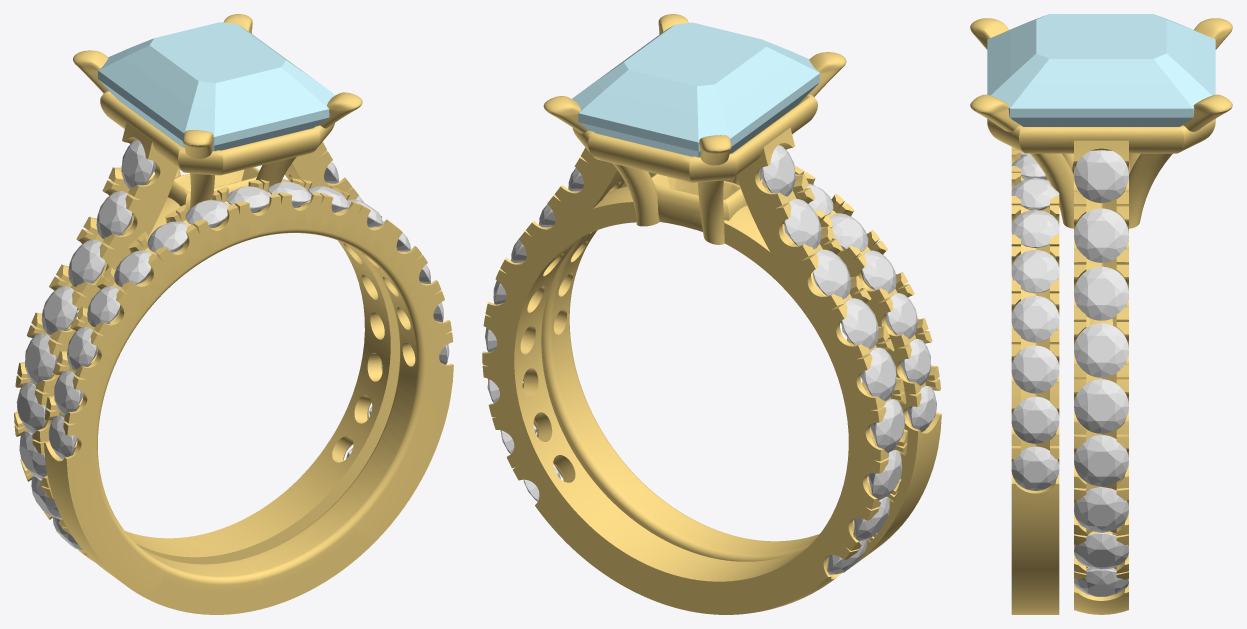
The model's file is StephanieBOTHyg.glb.
3 renders of one model, left to right at view 1: azimuth 30°, elevation 25°; view 2: azimuth 150°, elevation 25°; view 3: azimuth 270°, elevation 25°, orthographic. The views are drawn at different scales.
Visible parts, largest first — view 1: Stephanie YG wb for 3d model, Stephanie YG eng for 3d model, Stephanie aquamarine eng for 3d model, Stephanie dia eng for 3d model.012, Stephanie dia eng for 3d model.011, Stephanie dia eng for 3d model.010, Stephanie dia eng for 3d model.013, Stephanie dia eng for 3d model.009, Stephanie dia eng for 3d model.014, Stephanie dia wb for 3d model.011, Stephanie dia wb for 3d model.010, Stephanie dia wb for 3d model.012 (+7 smaller); view 2: Stephanie YG eng for 3d model, Stephanie YG wb for 3d model, Stephanie aquamarine eng for 3d model, Stephanie dia eng for 3d model.012, Stephanie dia eng for 3d model.011, Stephanie dia eng for 3d model.010, Stephanie dia eng for 3d model.013, Stephanie dia eng for 3d model.009, Stephanie dia eng for 3d model.014, Stephanie dia wb for 3d model.011, Stephanie dia wb for 3d model.012, Stephanie dia wb for 3d model.010 (+4 smaller); view 3: Stephanie aquamarine eng for 3d model, Stephanie YG eng for 3d model, Stephanie YG wb for 3d model, Stephanie dia eng for 3d model.003, Stephanie dia eng for 3d model.004, Stephanie dia eng for 3d model.001, Stephanie dia eng for 3d model, Stephanie dia eng for 3d model.002, Stephanie dia eng for 3d model.005, Stephanie dia eng for 3d model.006, Stephanie dia wb for 3d model.002, Stephanie dia wb for 3d model.001 (+8 smaller).
Boxes of the visible parts, bbox=[...] form: Stephanie YG wb for 3d model: bbox=[44, 178, 453, 614]; Stephanie YG eng for 3d model: bbox=[14, 14, 399, 564]; Stephanie aquamarine eng for 3d model: bbox=[98, 22, 335, 151]; Stephanie dia eng for 3d model.012: bbox=[41, 286, 77, 334]; Stephanie dia eng for 3d model.011: bbox=[68, 239, 105, 286]; Stephanie dia eng for 3d model.010: bbox=[96, 191, 132, 238]; Stephanie dia eng for 3d model.013: bbox=[25, 333, 58, 384]; Stephanie dia eng for 3d model.009: bbox=[121, 139, 155, 188]; Stephanie dia eng for 3d model.014: bbox=[16, 382, 47, 433]; Stephanie dia wb for 3d model.011: bbox=[87, 286, 120, 327]; Stephanie dia wb for 3d model.010: bbox=[114, 250, 151, 287]; Stephanie dia wb for 3d model.012: bbox=[67, 326, 97, 370]; Stephanie YG eng for 3d model: bbox=[482, 14, 907, 614]; Stephanie YG wb for 3d model: bbox=[533, 165, 941, 566]; Stephanie aquamarine eng for 3d model: bbox=[572, 22, 819, 157]; Stephanie dia eng for 3d model.012: bbox=[841, 298, 878, 349]; Stephanie dia eng for 3d model.011: bbox=[812, 249, 851, 299]; Stephanie dia eng for 3d model.010: bbox=[784, 199, 821, 249]; Stephanie dia eng for 3d model.013: bbox=[860, 347, 896, 400]; Stephanie dia eng for 3d model.009: bbox=[759, 145, 795, 196]; Stephanie dia eng for 3d model.014: bbox=[870, 399, 904, 452]; Stephanie dia wb for 3d model.011: bbox=[862, 250, 896, 293]; Stephanie dia wb for 3d model.012: bbox=[886, 293, 917, 338]; Stephanie dia wb for 3d model.010: bbox=[830, 213, 868, 251]; Stephanie aquamarine eng for 3d model: bbox=[987, 14, 1215, 126]; Stephanie YG eng for 3d model: bbox=[970, 18, 1232, 614]; Stephanie YG wb for 3d model: bbox=[1011, 147, 1059, 614]; Stephanie dia eng for 3d model.003: bbox=[1074, 323, 1128, 377]; Stephanie dia eng for 3d model.004: bbox=[1074, 379, 1128, 433]; Stephanie dia eng for 3d model.001: bbox=[1074, 208, 1128, 262]; Stephanie dia eng for 3d model: bbox=[1074, 150, 1128, 202]; Stephanie dia eng for 3d model.002: bbox=[1074, 266, 1128, 320]; Stephanie dia eng for 3d model.005: bbox=[1074, 435, 1128, 486]; Stephanie dia eng for 3d model.006: bbox=[1074, 487, 1128, 532]; Stephanie dia wb for 3d model.002: bbox=[1011, 345, 1059, 393]; Stephanie dia wb for 3d model.001: bbox=[1011, 396, 1059, 443].
Bounding box in the file's own units: 20.81 × 26.87 × 11.49.
